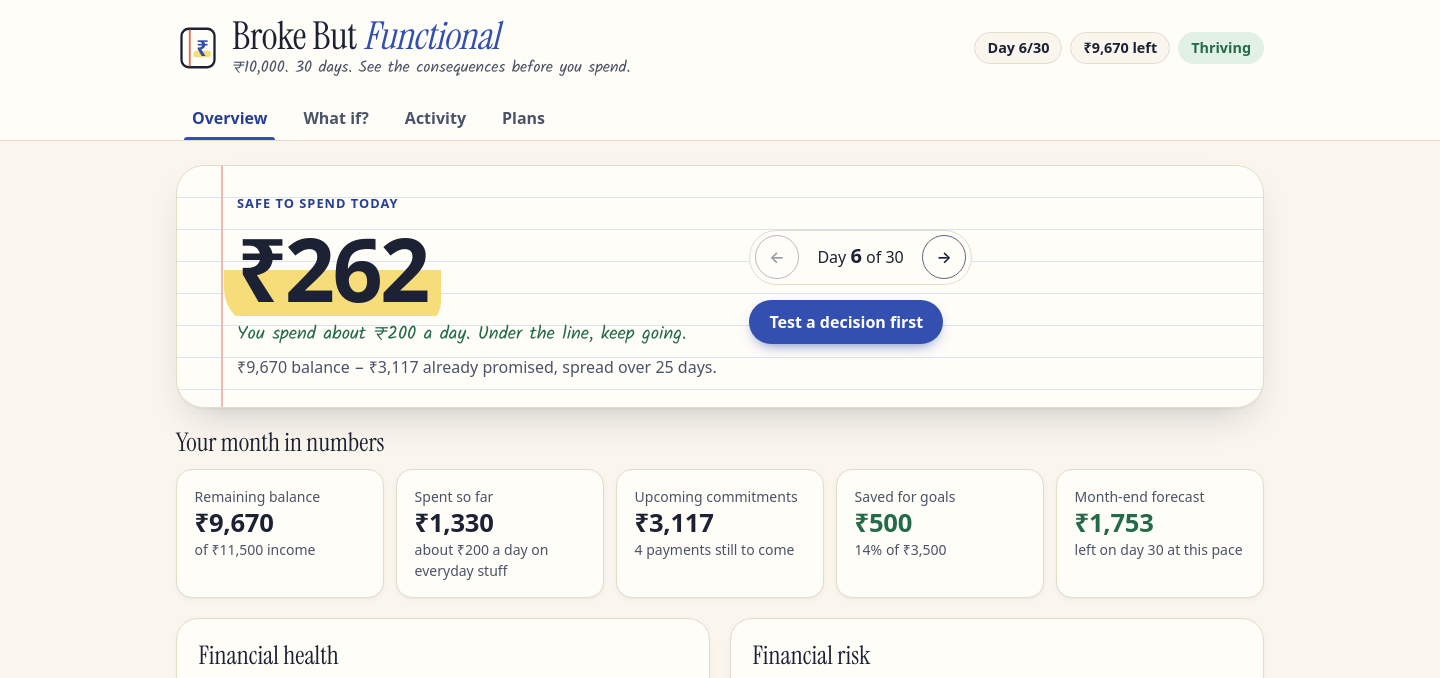
Test: insights › breaks spending down by category
Click the tab "Activity" at (435, 118), box [389, 96, 482, 140]
(page scrolled)
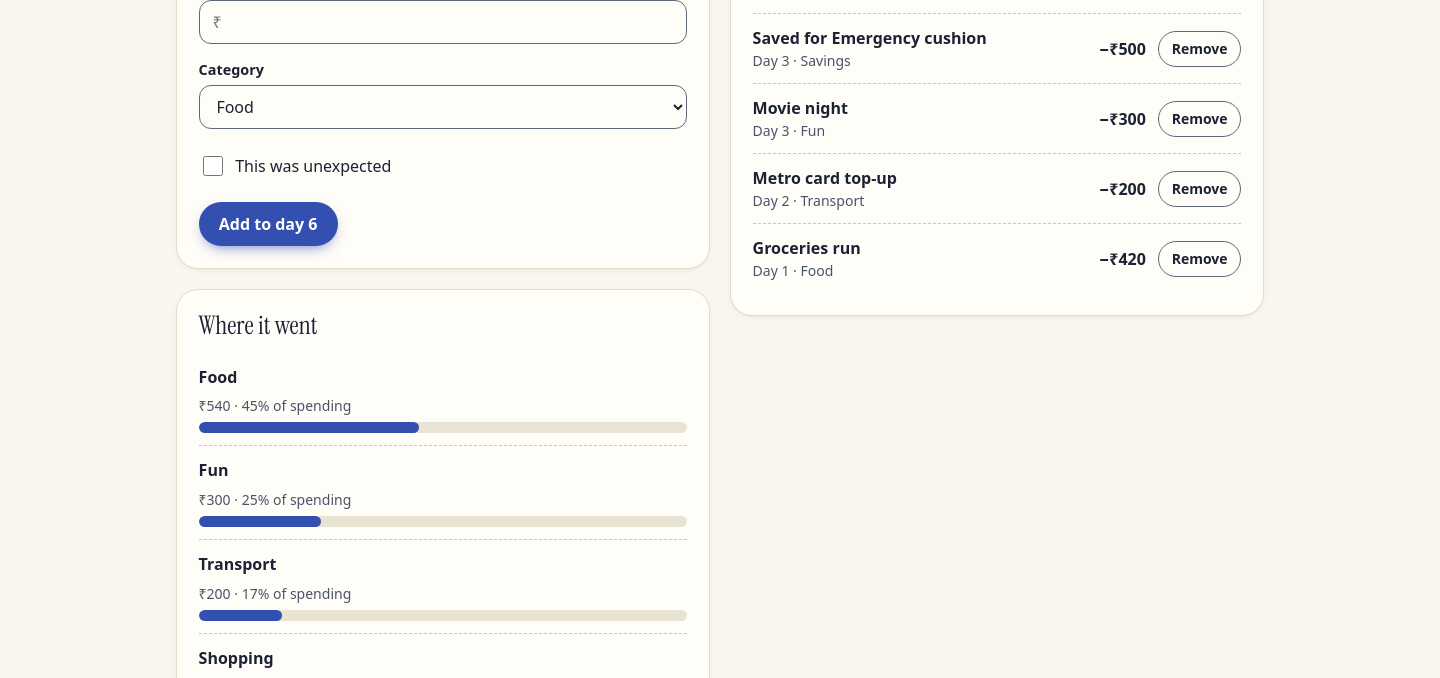
Expected: the progress indicator named "Food share of spending" holds "45", [199, 422, 687, 434]
Expected: the text "₹540 · 45% of spending" is shown, [199, 396, 351, 415]
